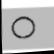no answer: (8, 14, 40, 40)
